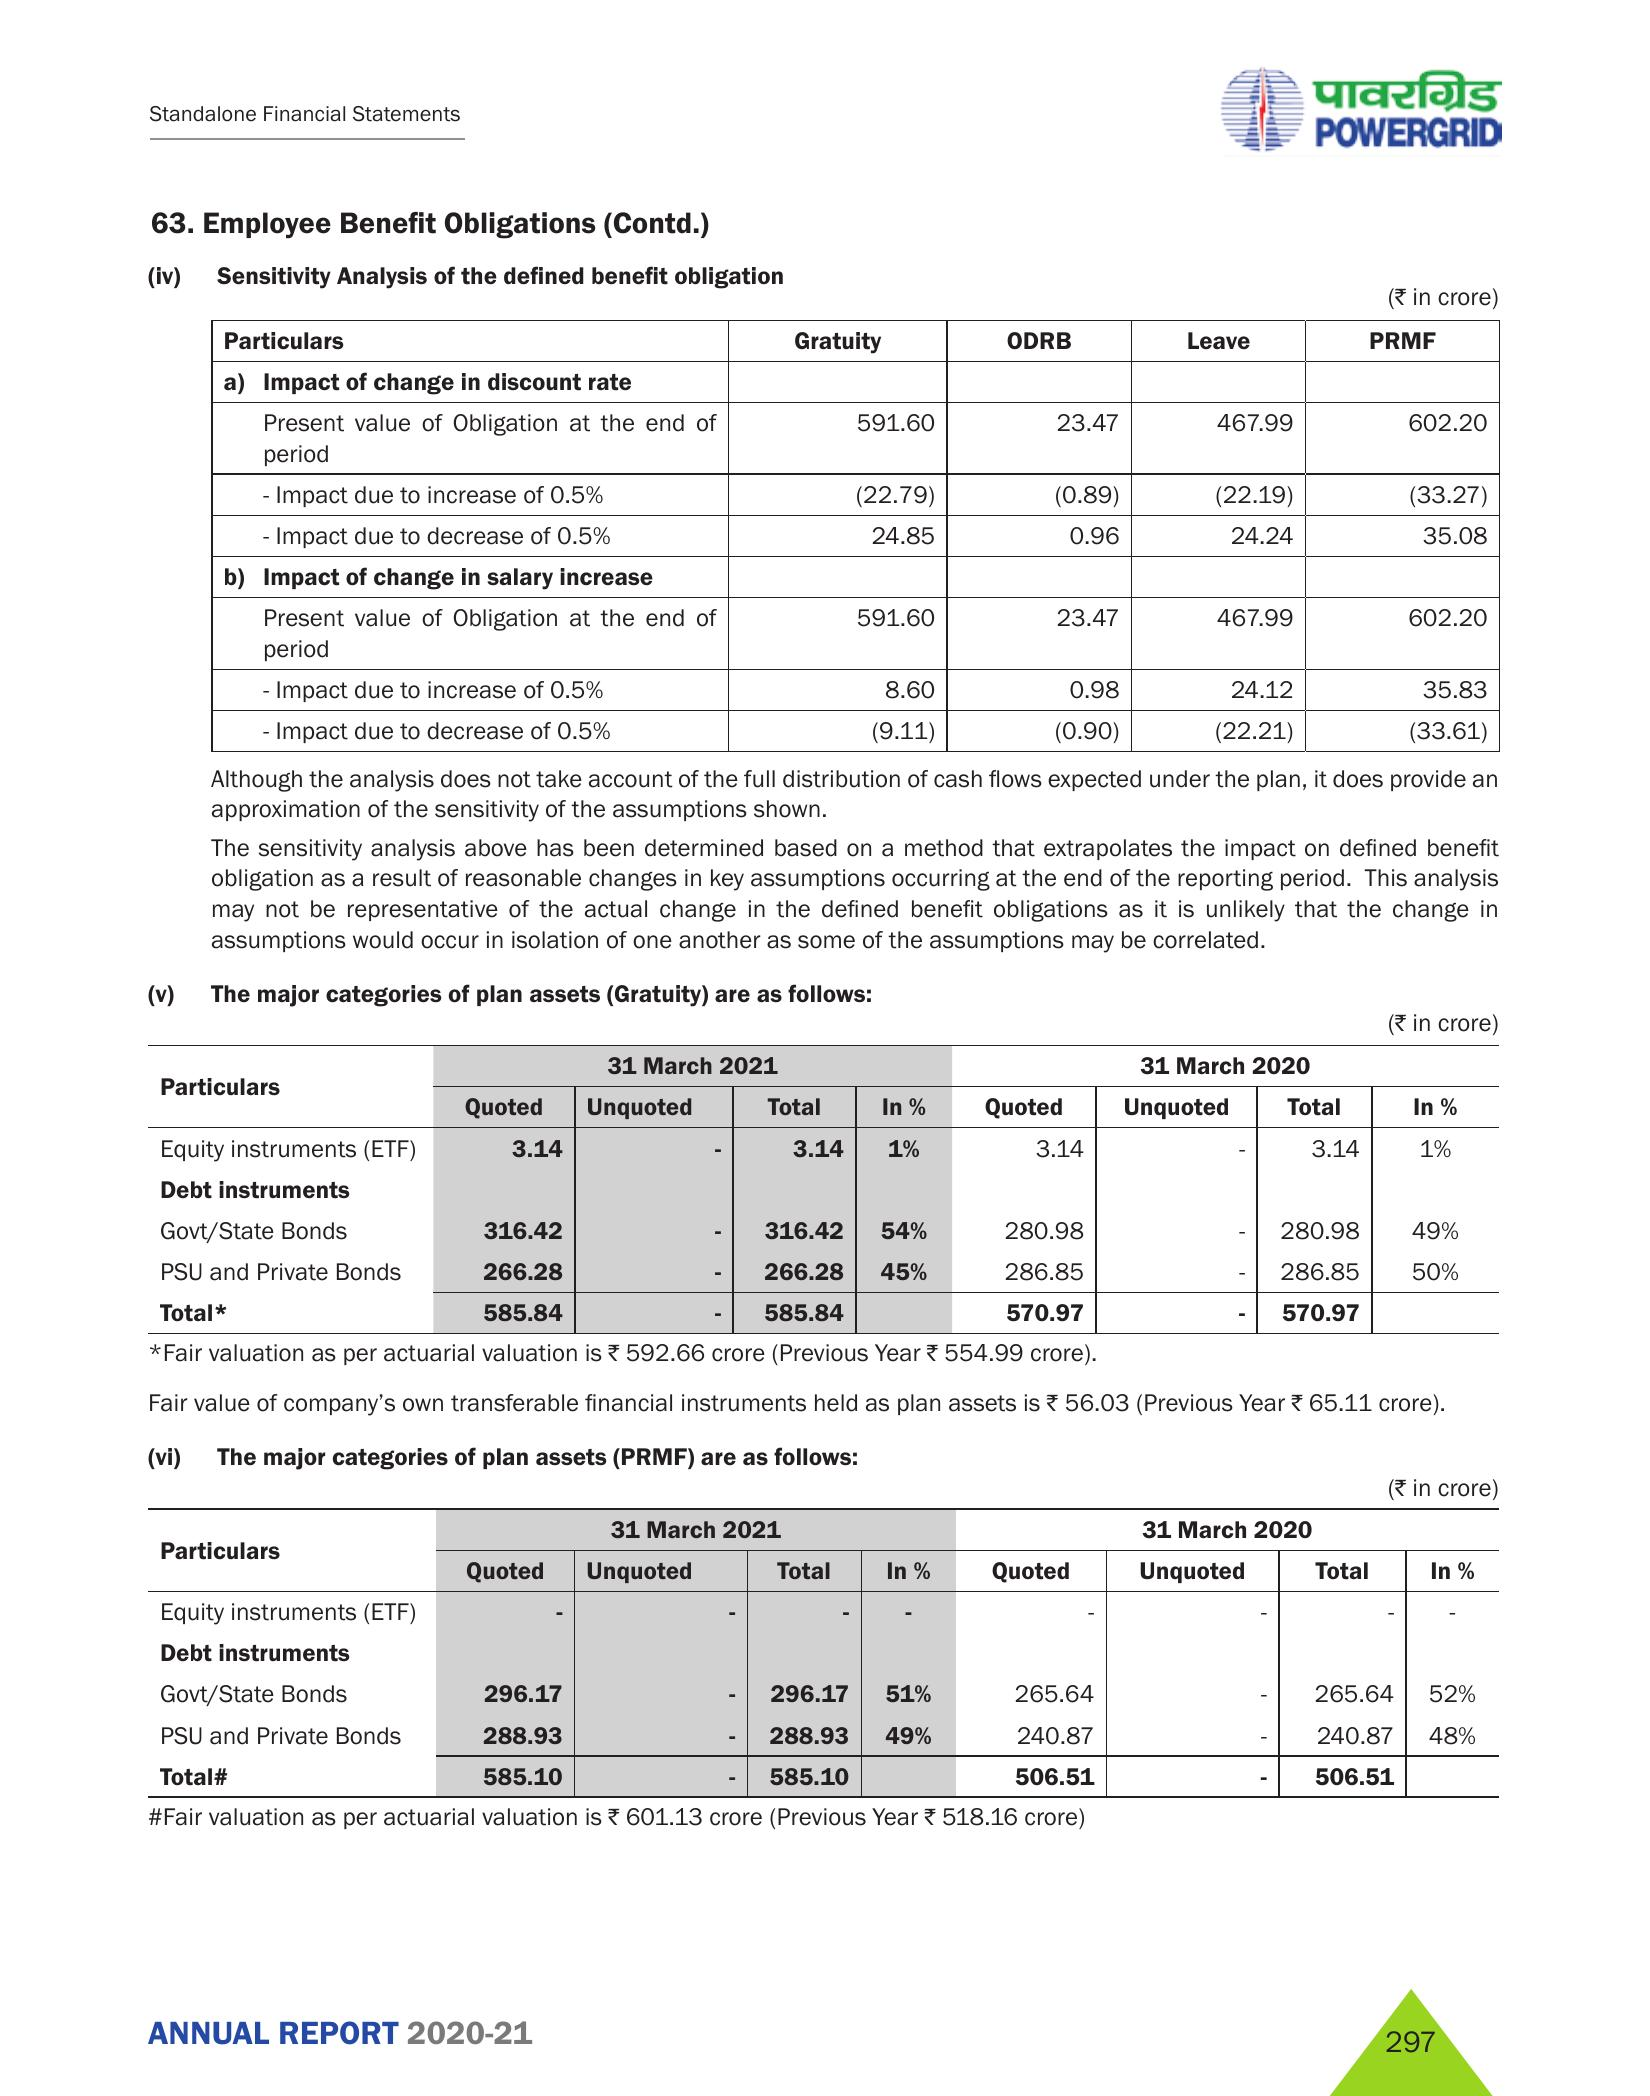Footer: (0, 1965, 1650, 2096)
Header: (0, 0, 1650, 168)
Table: (167, 323, 1528, 776), (122, 1507, 1499, 1802), (134, 1046, 1487, 1336)
